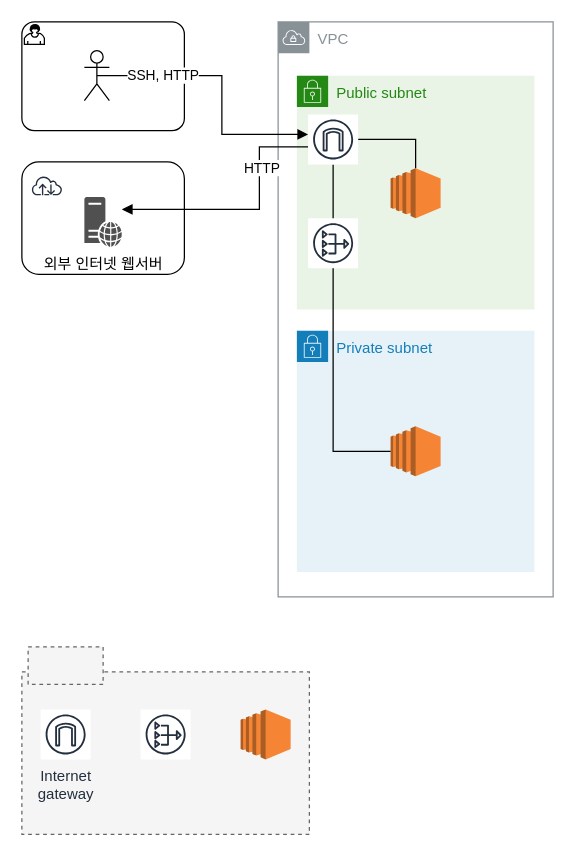
Some shapes in this 575 by 856 pixel diagram are drawn without their labels. The centre of each missing label's shape, as x and y in pixels:
EC2: point (265, 733)
icon: point (65, 665)
NAT gateway: point (165, 733)
